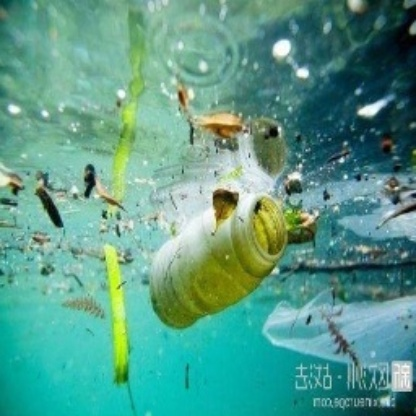bottle: (146, 193, 288, 329)
